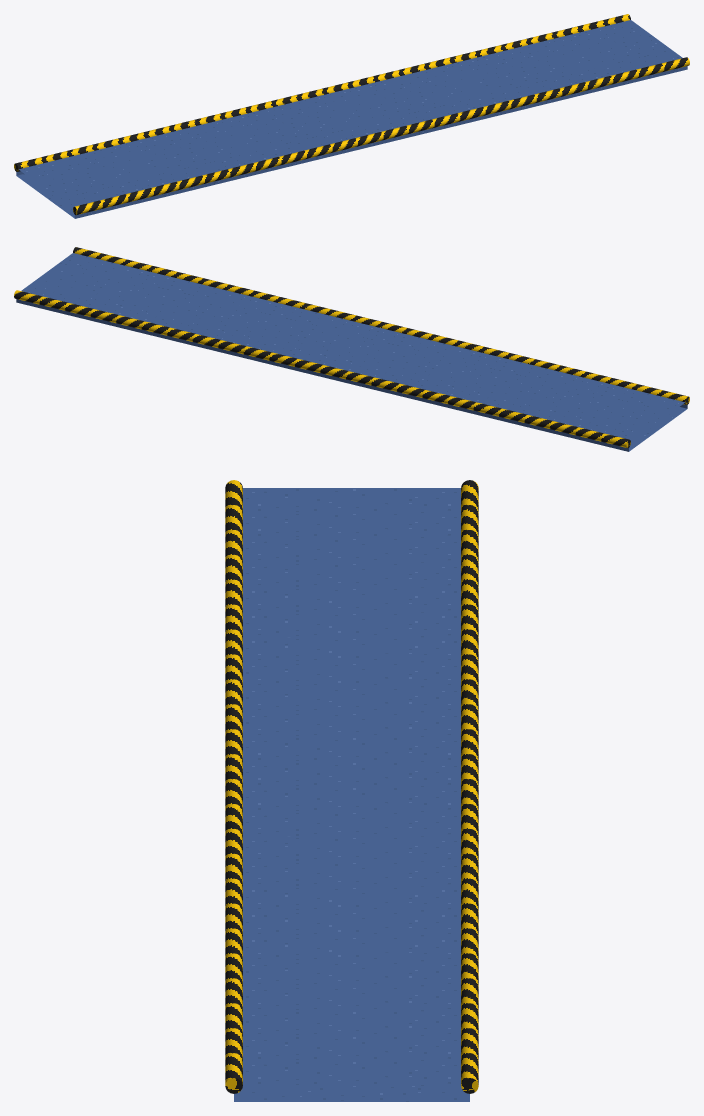
File: Road.fbx
The picture shows the model from 3 angles, top to bottom: view 1: azimuth 30°, elevation 25°; view 2: azimuth 150°, elevation 25°; view 3: azimuth 270°, elevation 25°; orthographic projection. The views are drawn at different scales.
Parts seen in each view (by area): view 1: Cube; view 2: Cube; view 3: Cube.
Boxes of the visible parts, x1,y1,x2,y2 form: Cube: (14,14,689,218); Cube: (14,247,689,451); Cube: (225,480,478,1101).
Bounding box in the file's own units: 4800 × 89.93 × 860.
